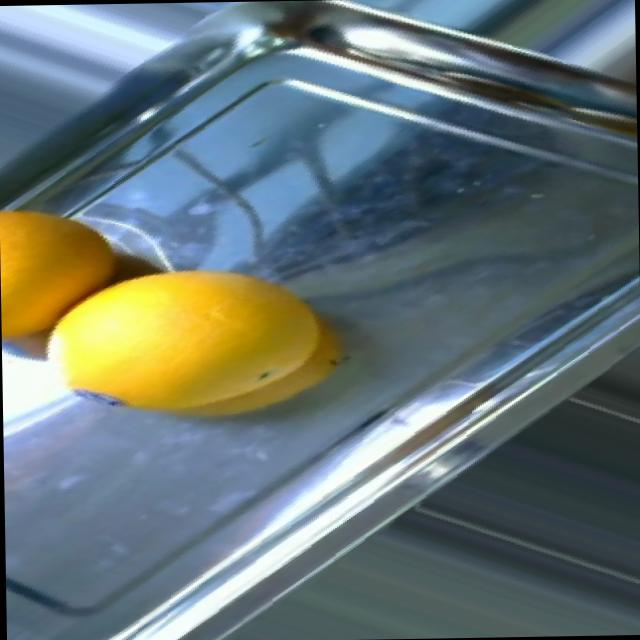Fruit: (170, 250, 376, 439)
